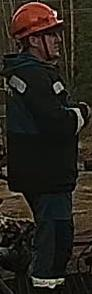gloves: (77, 101, 92, 122)
helmet: (9, 1, 64, 40)
vest: (0, 53, 78, 193)
